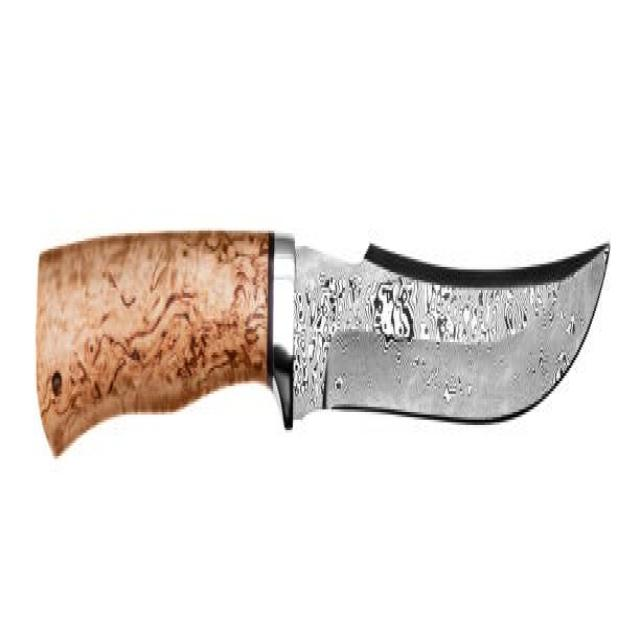knife: (30, 218, 613, 466)
